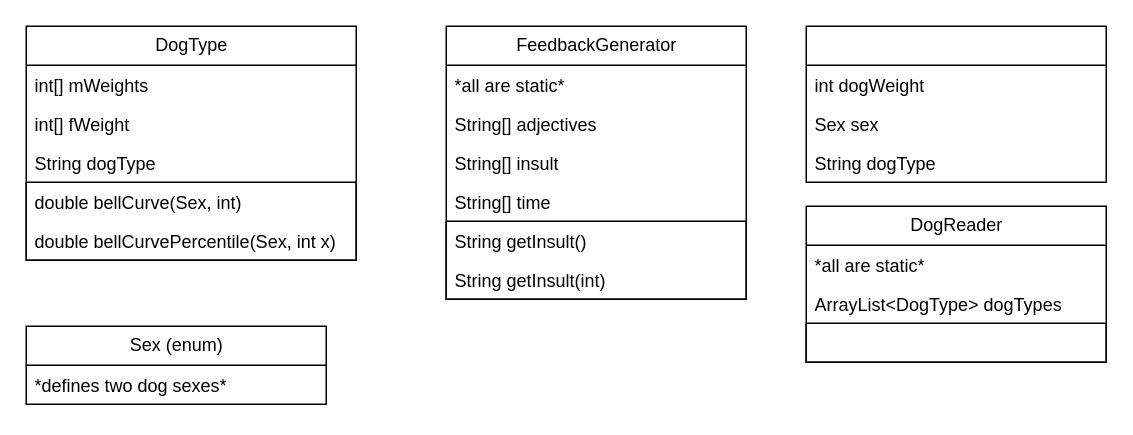
Some shapes in this 1133 by 435 pixel diagram are drawn without their labels. Here are the shapes that lost their labels. From the top down, the box of each, then its label:
(805, 25, 1106, 182): Main
(805, 322, 1106, 362): DogType findDogType(String)
